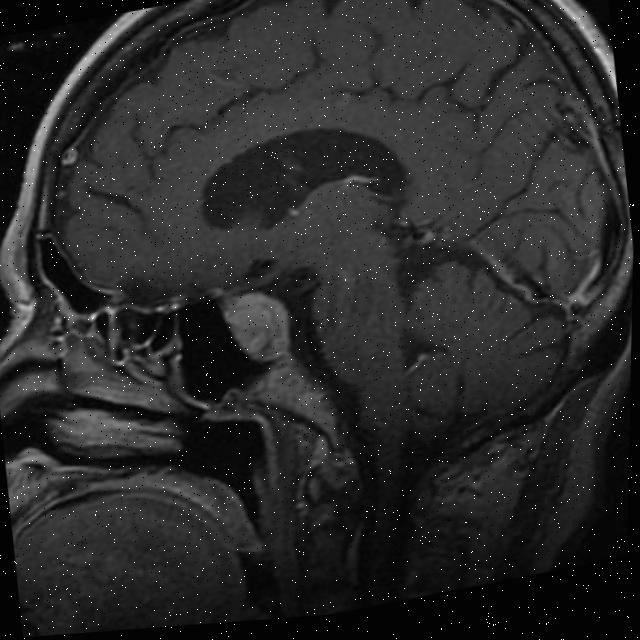Pituitary: (220, 282, 294, 368)
